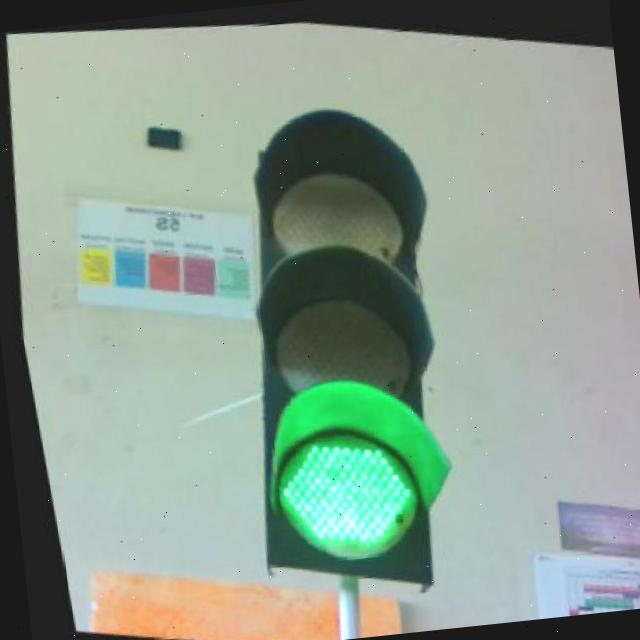green_light: (175, 72, 495, 605)
